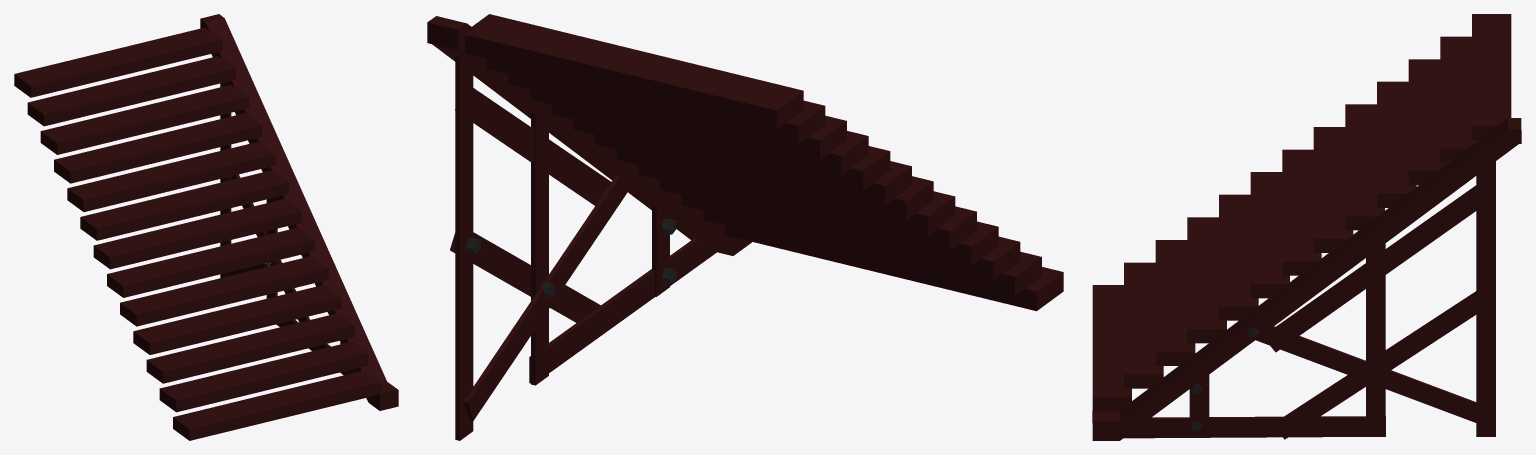
File: SupportedRamp_mesh.fbx
3 views of the same model, side by side, from view 1: azimuth 30°, elevation 25°; view 2: azimuth 150°, elevation 25°; view 3: azimuth 270°, elevation 25° (orthographic). The views are drawn at different scales.
Parts seen in each view (by area): view 1: Cube.001; view 2: Cube.001; view 3: Cube.001.
Part boxes in pixels (box(x1,y1,x2,y2)): Cube.001: box(14, 14, 398, 440); Cube.001: box(427, 14, 1063, 440); Cube.001: box(1092, 14, 1521, 440).
Bounding box in the file's own units: 533 × 631 × 785.
